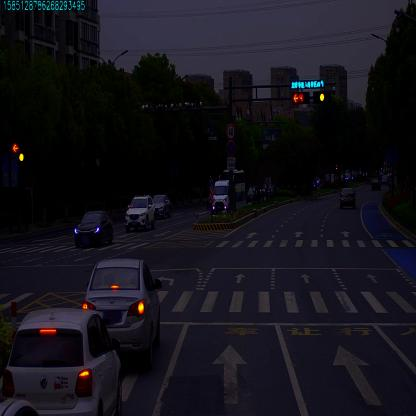traffic-light: (292, 79, 326, 88), (291, 92, 309, 107), (314, 91, 331, 102)
